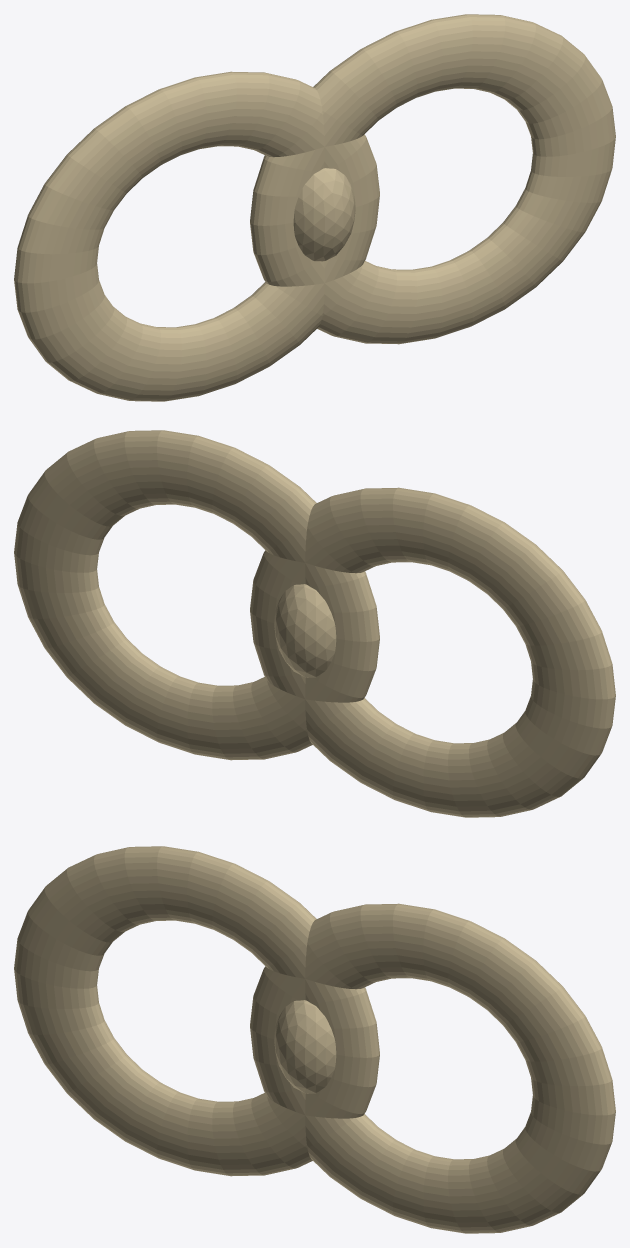
File: bow.glb
3 views of the same model, one above another, from view 1: azimuth 30°, elevation 25°; view 2: azimuth 150°, elevation 25°; view 3: azimuth 330°, elevation 25° (orthographic).
Parts seen in each view (by area): view 1: world; view 2: world; view 3: world.
Part boxes in pixels (left/top/right/bottom): world: left=14, top=14, right=615, bottom=401; world: left=14, top=430, right=615, bottom=817; world: left=14, top=846, right=615, bottom=1233.
Bounding box in the file's own units: 1.42 × 0.72 × 0.168.
